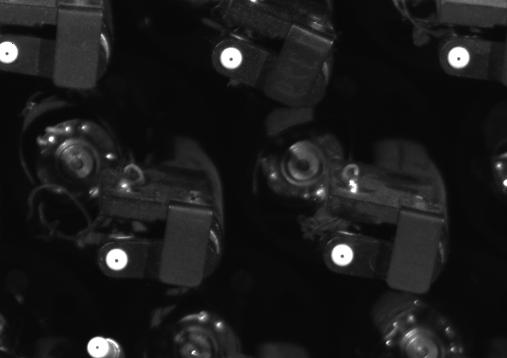fiber: (443, 42, 475, 75), (102, 245, 135, 275), (326, 241, 358, 271), (215, 45, 247, 72), (85, 332, 113, 358), (1, 37, 20, 65)
